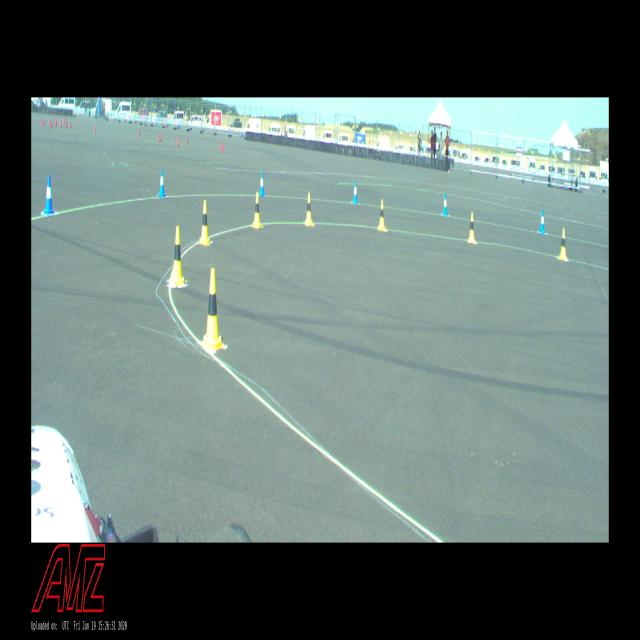blue_cone: (44, 175, 54, 213), (158, 168, 166, 197), (539, 210, 545, 234), (442, 193, 448, 216), (352, 181, 358, 204), (260, 171, 264, 196)
yellow_cone: (203, 269, 224, 349), (168, 228, 186, 285), (200, 200, 210, 245), (252, 192, 263, 227), (467, 213, 476, 243), (304, 193, 312, 226), (559, 228, 567, 260), (378, 200, 385, 230)
